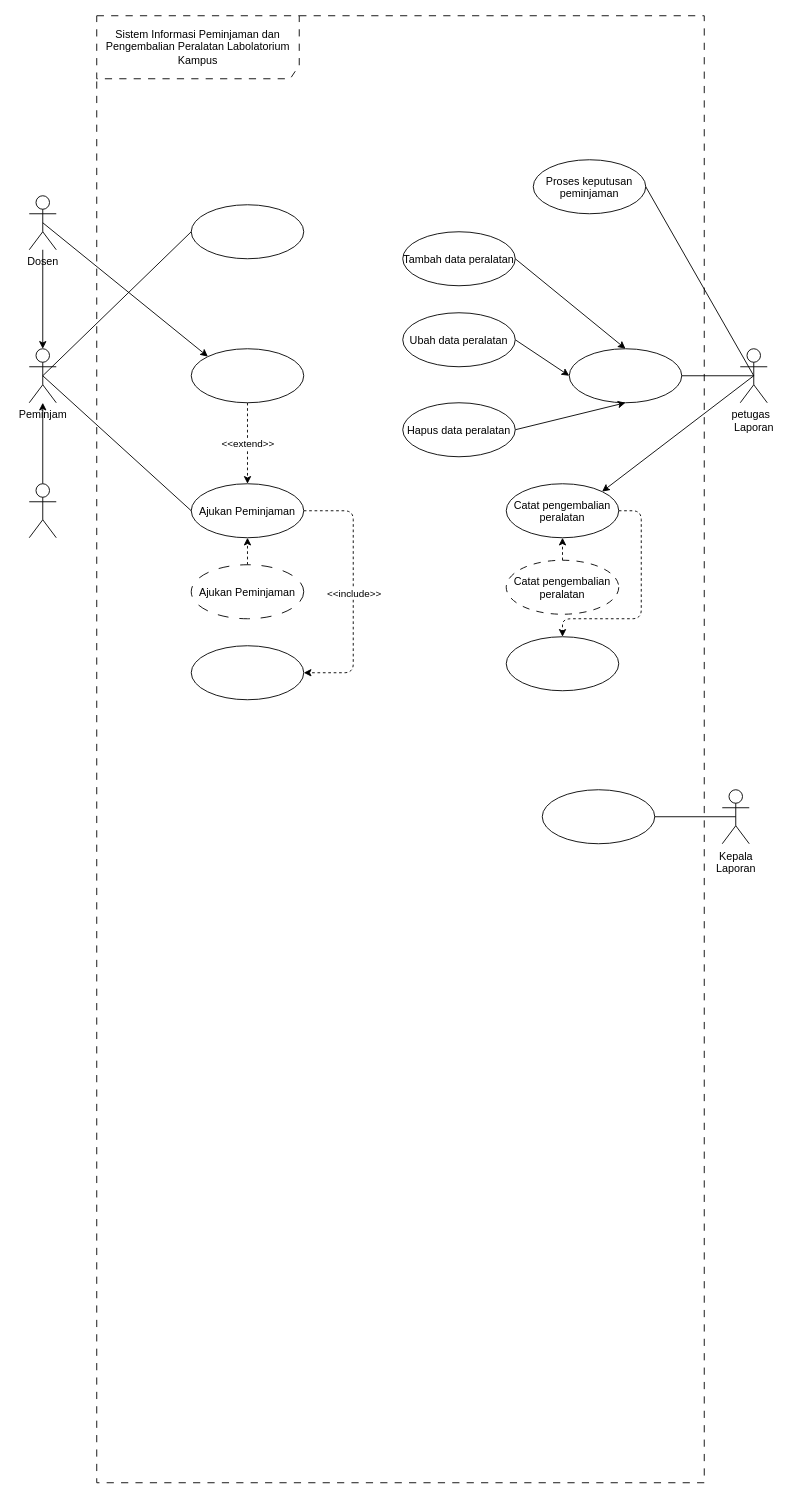
Some shapes in this 791 by 1499 pixel diagram are drawn without their labels. The shapes that lost their labels are listed below. From the top down, each one's centre as x and y in pixels, then its label:
At (247,231): "Lihat Ketersediaan Peralatan".
At (247,375): "Cek bukti pengajuan".
At (625,375): "Kelola data peralatan".
At (42,510): "Mahasiswa".
At (247,672): "Perika Ketersediaan".
At (562,663): "Periksa kondisi peralatan".
At (598,816): "LIhat laporan peminjaman".
